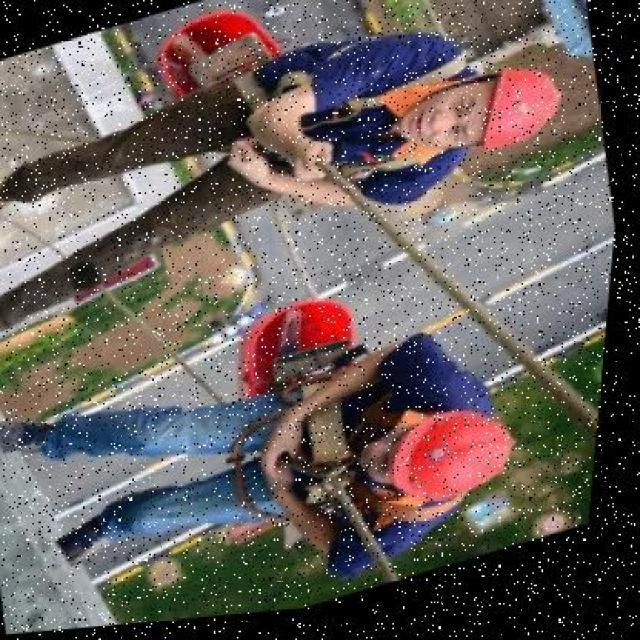helmet: (378, 394, 538, 528), (451, 56, 573, 178)
